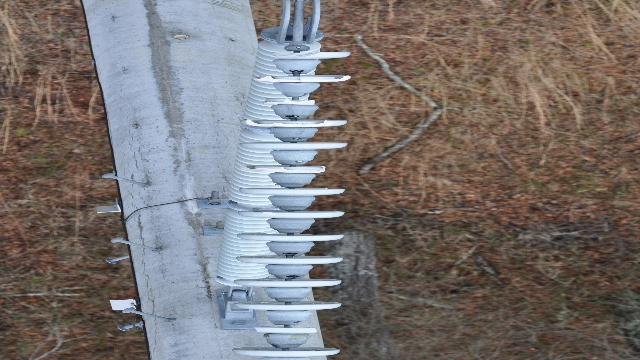broken_local: (236, 161, 333, 176), (256, 70, 352, 85), (240, 116, 343, 128), (244, 324, 320, 336), (256, 96, 324, 108), (272, 52, 340, 59)
insulator_unspecified: (229, 48, 354, 357), (214, 27, 328, 287)
